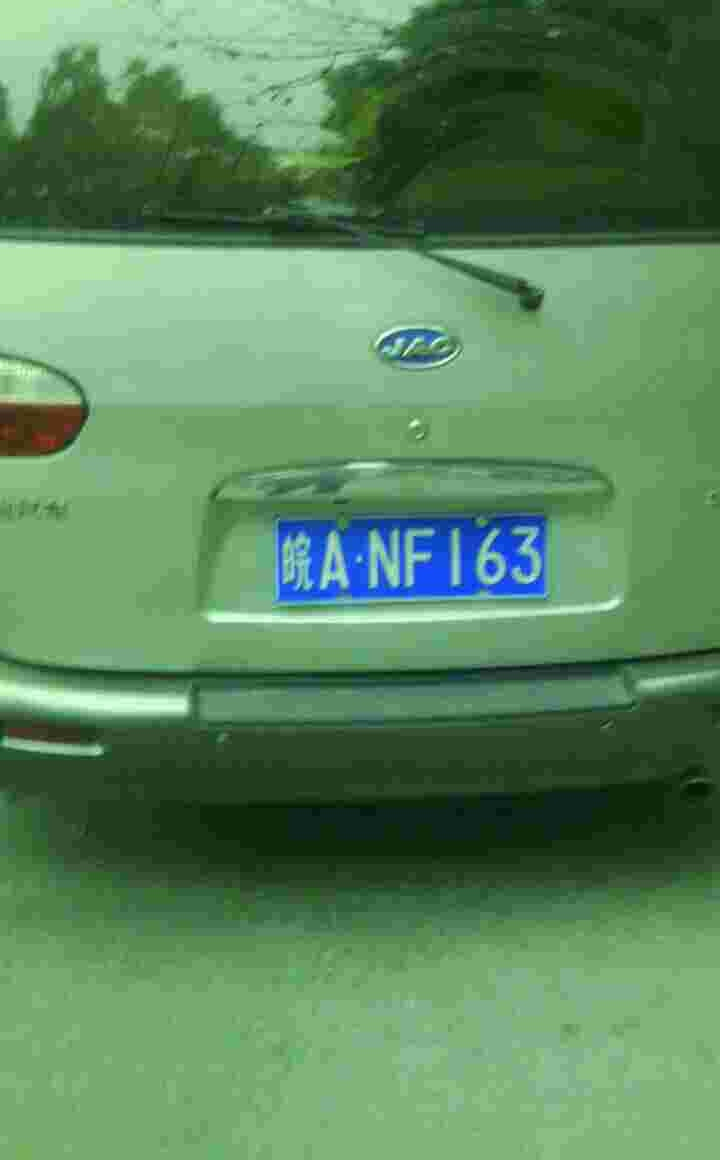car: (275, 511, 549, 608)
